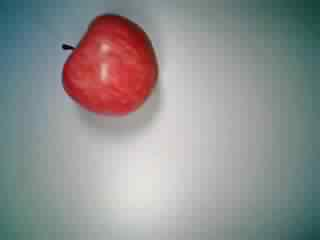apple: (58, 14, 164, 113)
